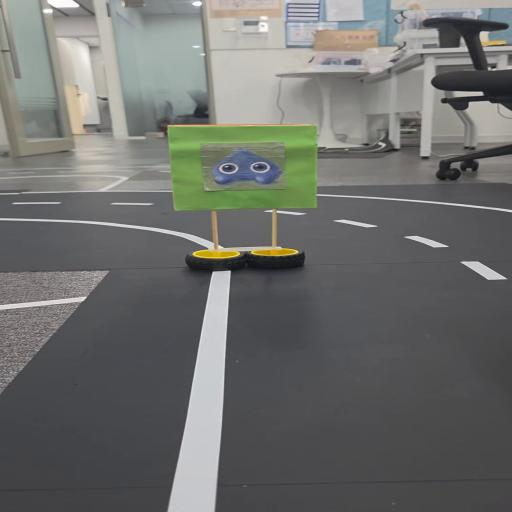Sign_B: (166, 116, 324, 278)
